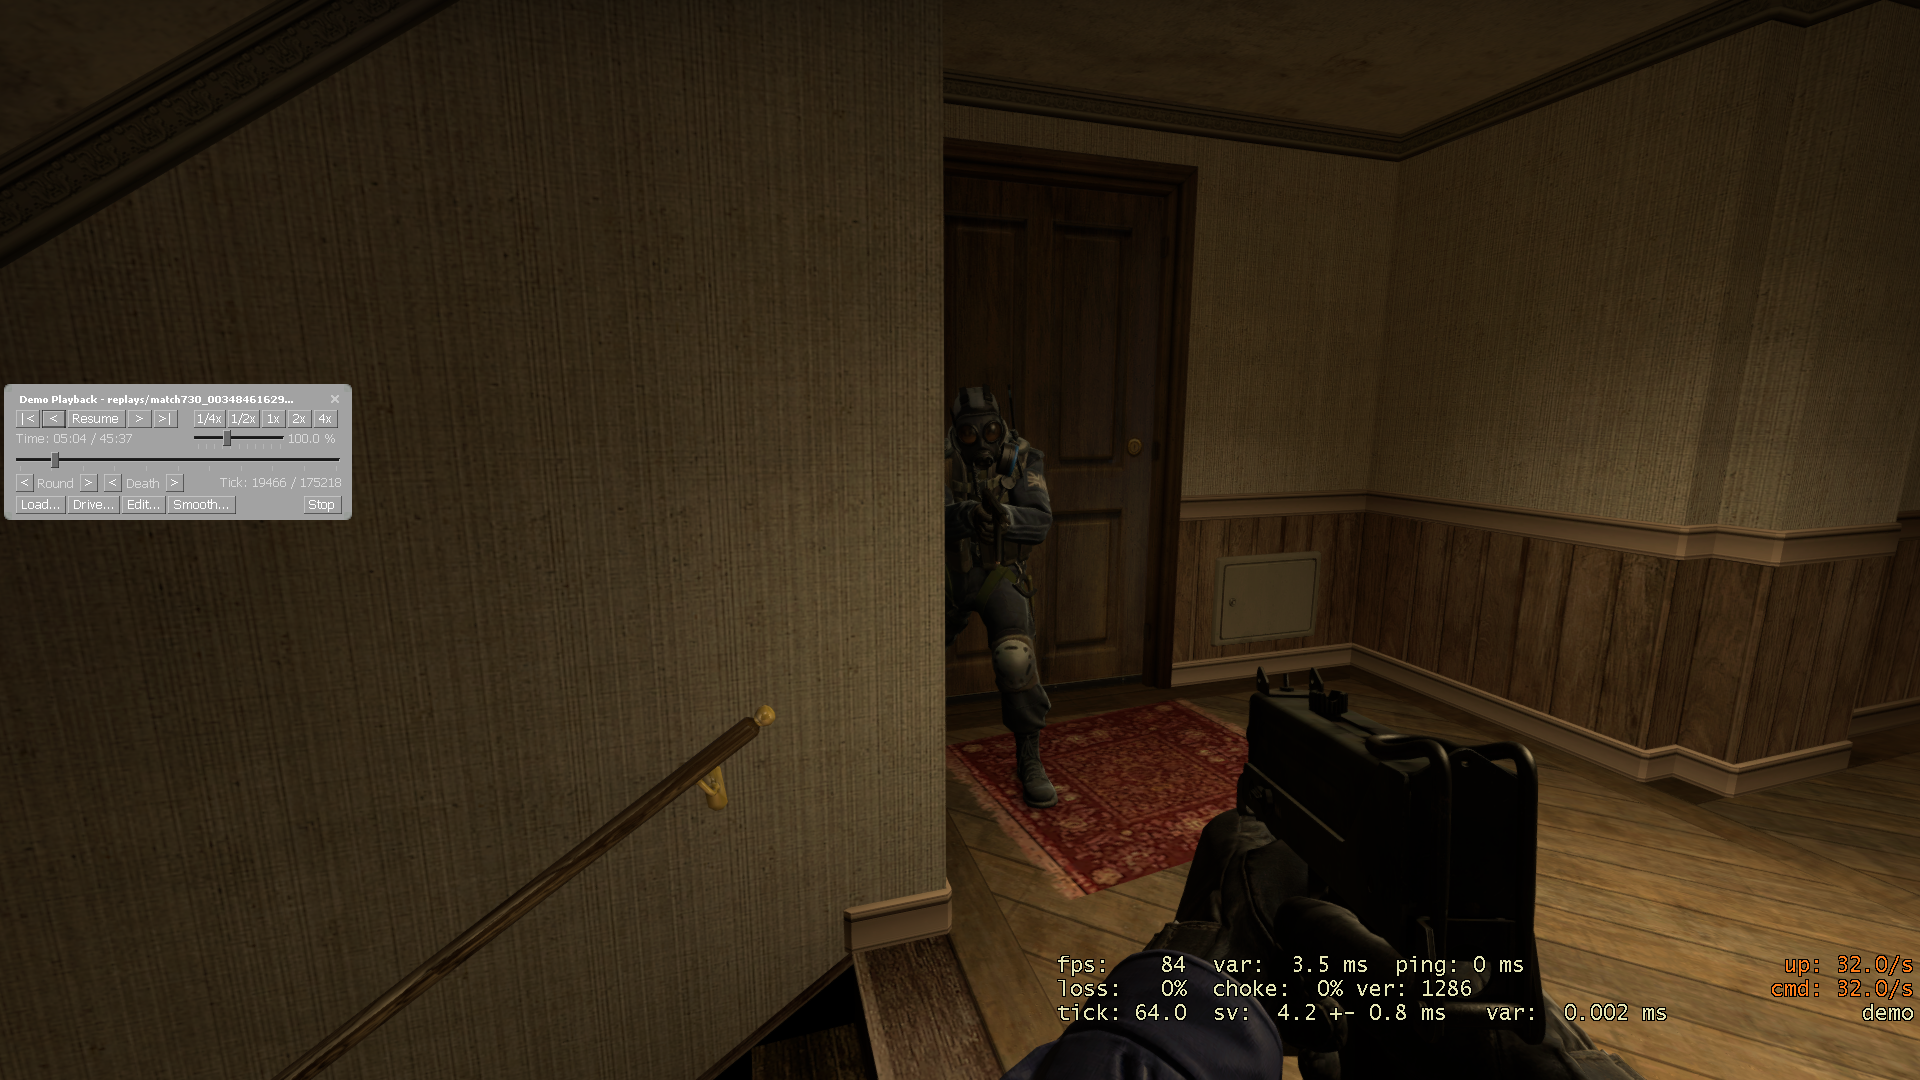ct: (944, 385, 1060, 806)
